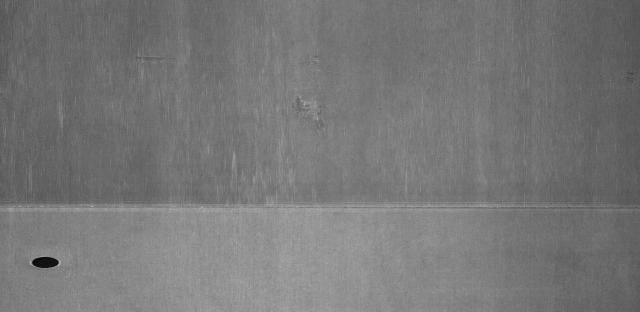punching_hole: (23, 251, 69, 274)
welding_line: (4, 198, 639, 220)
